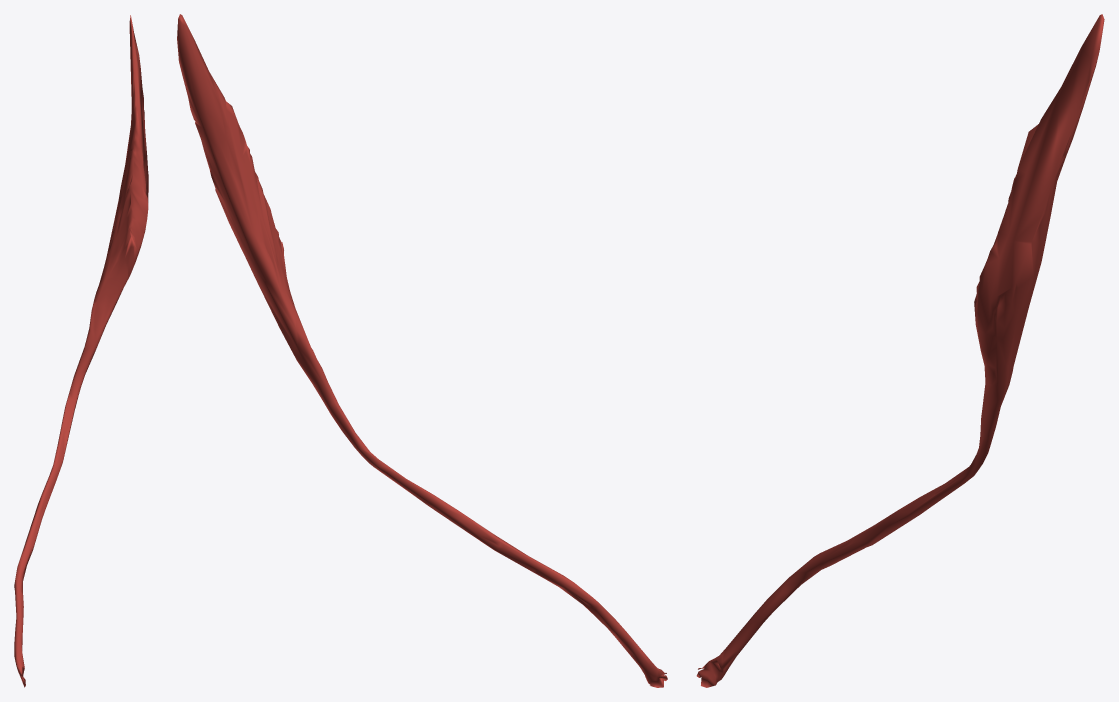
The model's file is musculos-extensor-pollicis-longus-r.glb.
3 views of the same model, side by side, from view 1: azimuth 30°, elevation 25°; view 2: azimuth 150°, elevation 25°; view 3: azimuth 270°, elevation 25° (orthographic). The views are drawn at different scales.
Visible parts, largest first — view 1: Extensor pollicis longus.r; view 2: Extensor pollicis longus.r; view 3: Extensor pollicis longus.r.
Part boxes in pixels (x1=…): Extensor pollicis longus.r: x1=14, y1=15, x2=148, y2=687; Extensor pollicis longus.r: x1=177, y1=14, x2=667, y2=687; Extensor pollicis longus.r: x1=696, y1=14, x2=1104, y2=687.
Bounding box in the file's own units: 0.0982 × 0.2091 × 0.0906.
